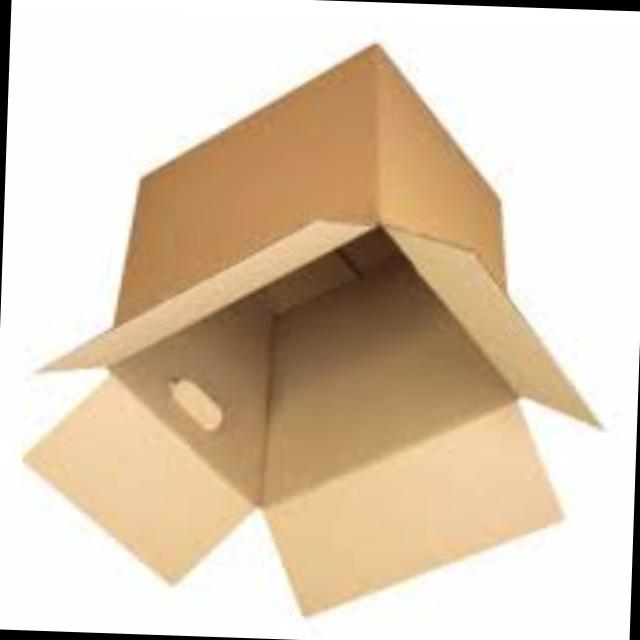cardboard paper: (31, 53, 598, 619)
